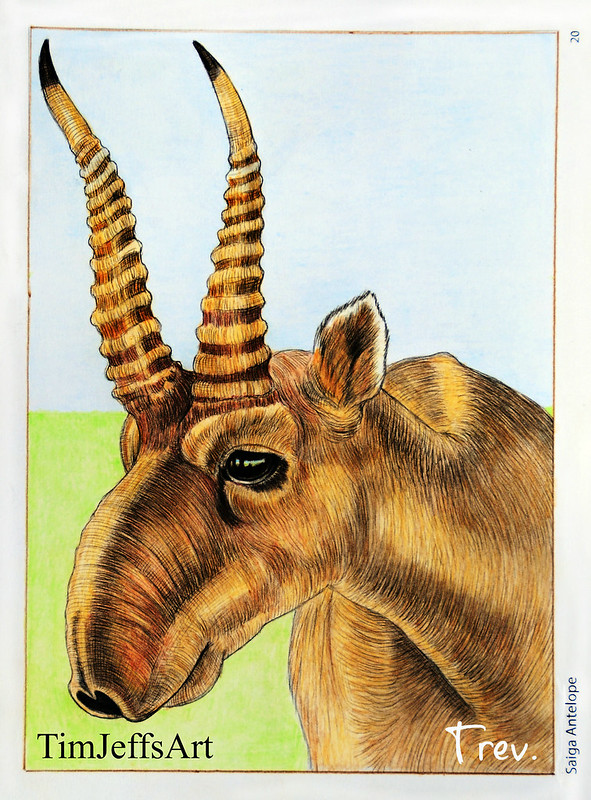saiga: (40, 38, 556, 773)
